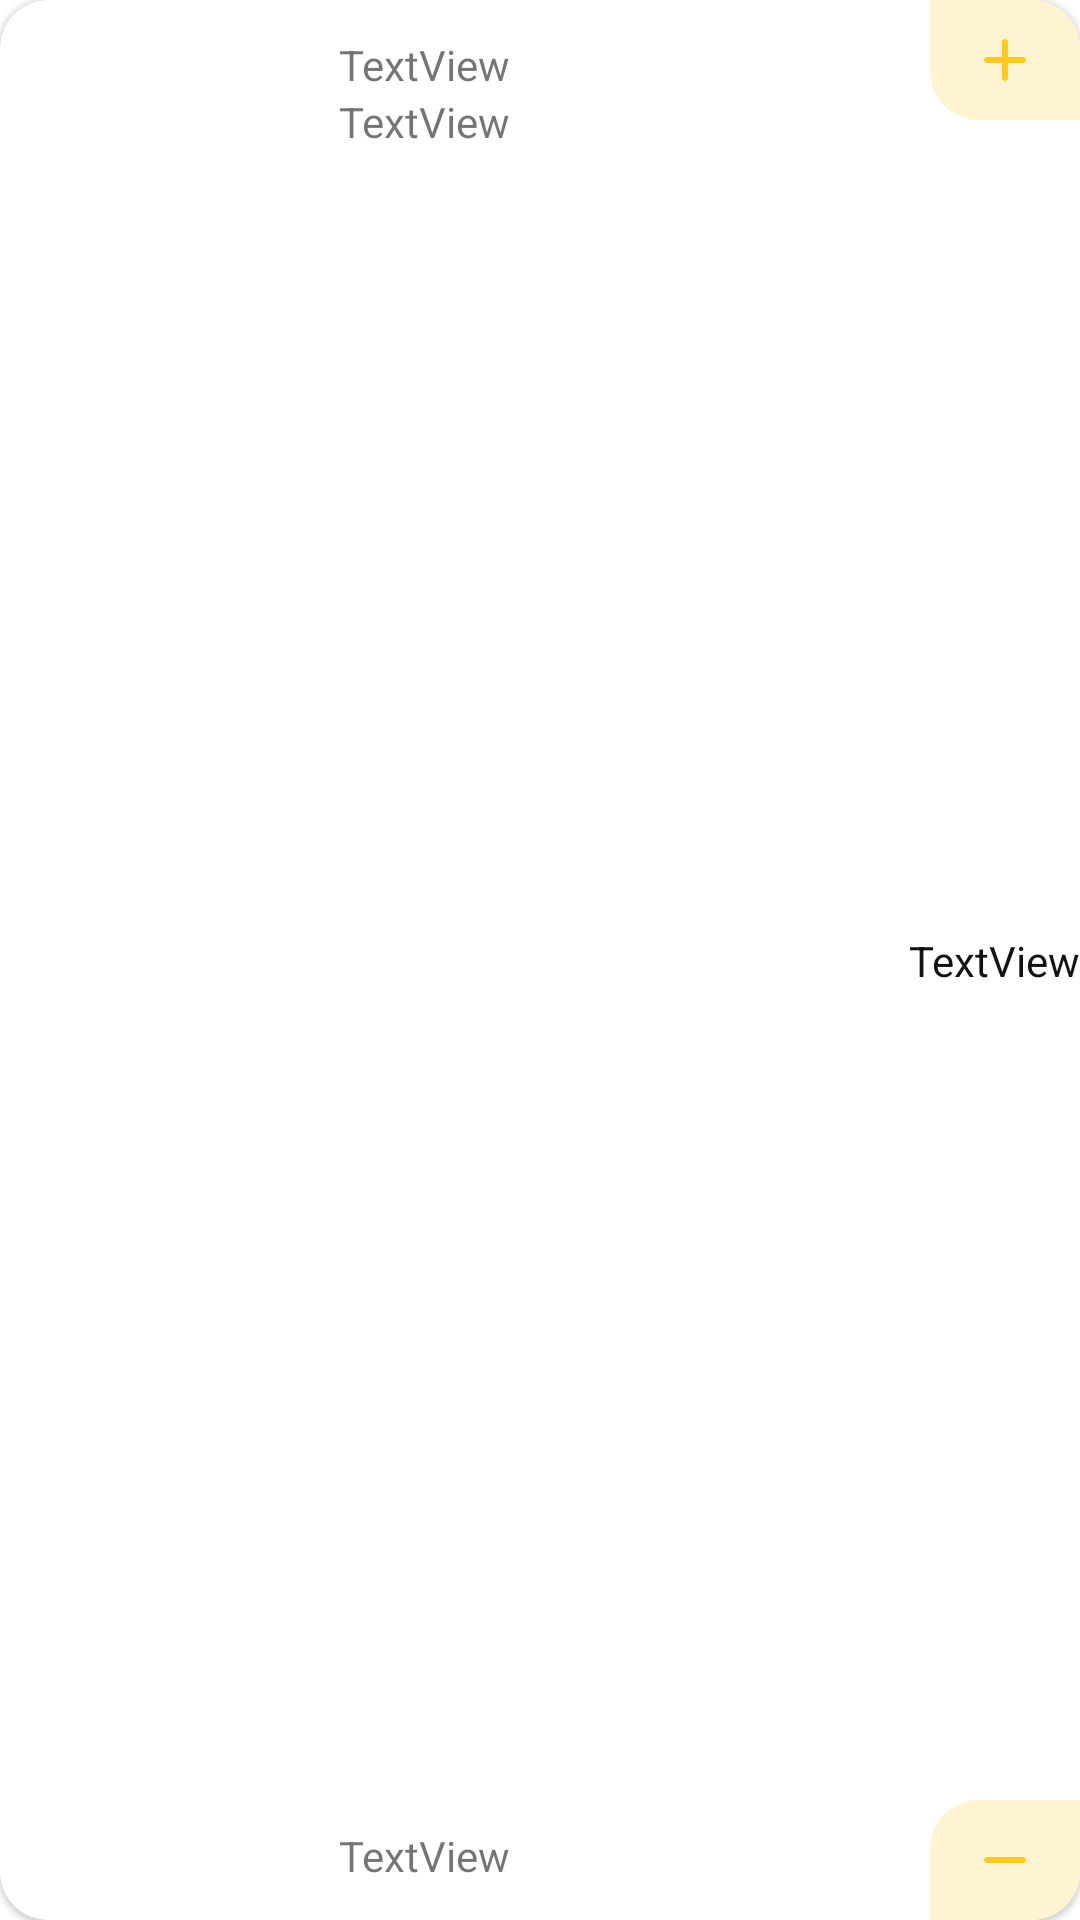

Screen size 1080w x 1920h. Icon name, then its center in pixels as point (x, y):
add: point (1005, 60)
remove: point (1005, 1860)
